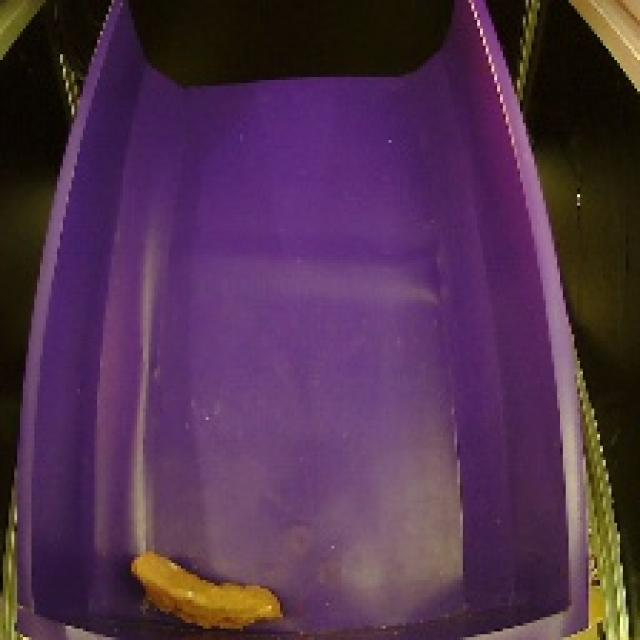brick: (123, 540, 291, 639)
